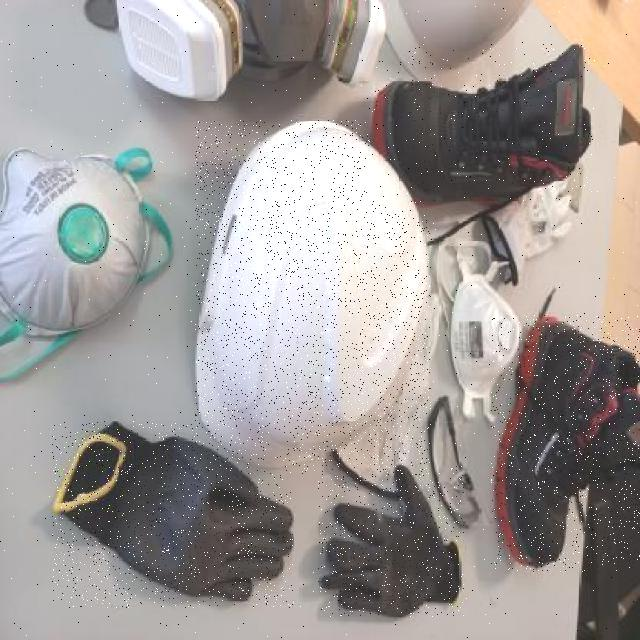Boots: (491, 315, 640, 572), (369, 44, 597, 201)
Helmet: (195, 120, 431, 475)
